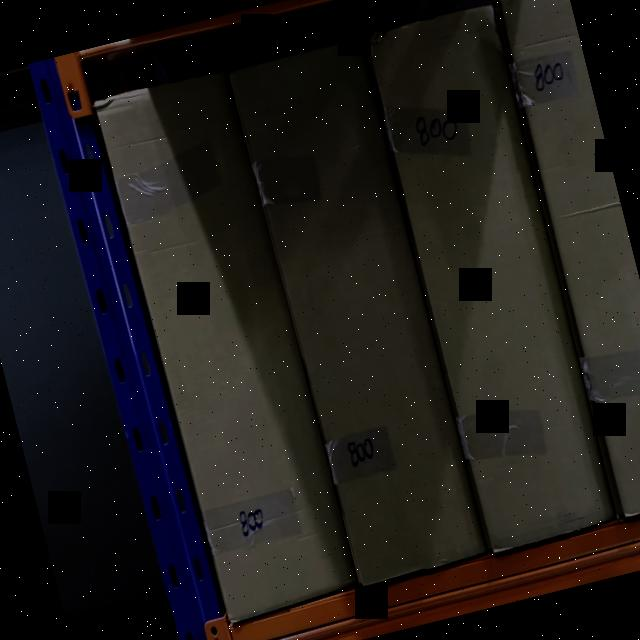box: (98, 70, 359, 622), (233, 43, 484, 581), (373, 13, 615, 547)
